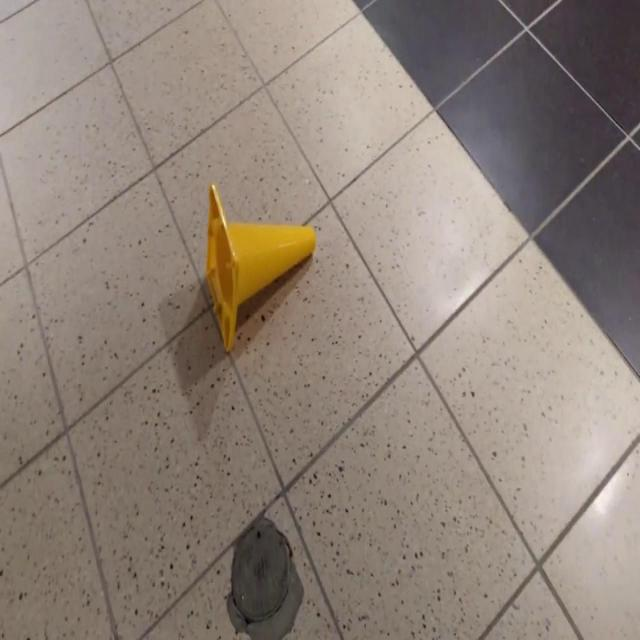frc_cone: (207, 182, 317, 356)
